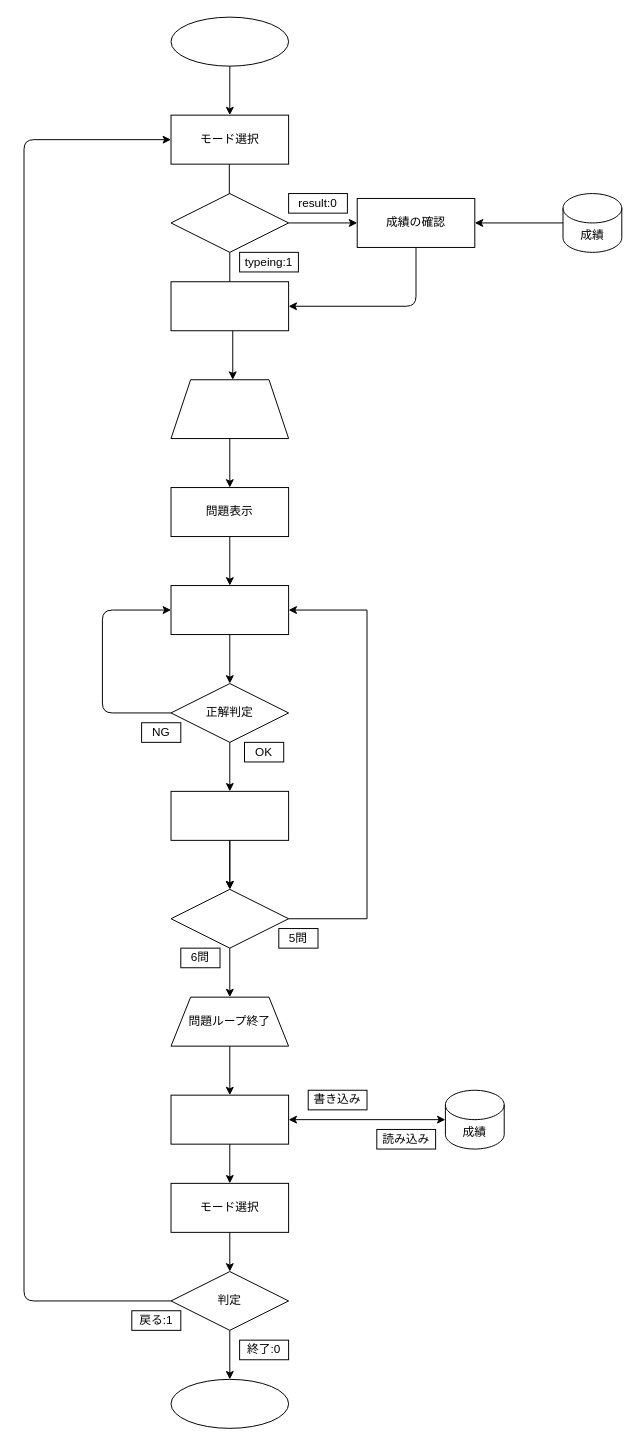
Image size: 639x1446. Some labels were removed from this diagram. The box of each missing label's shape, as (x1, y1, x2, y2) in pixels:
タイピングの説明: (170, 281, 289, 331)
処理終了: (170, 1378, 289, 1428)
問題ループ開始: (170, 379, 289, 439)
問題解答: (170, 585, 289, 635)
成績発表: (170, 1094, 289, 1144)
終了判定: (170, 888, 289, 948)
解答数確認: (170, 790, 289, 840)
選択判定: (170, 193, 289, 252)
開始: (170, 16, 289, 66)
